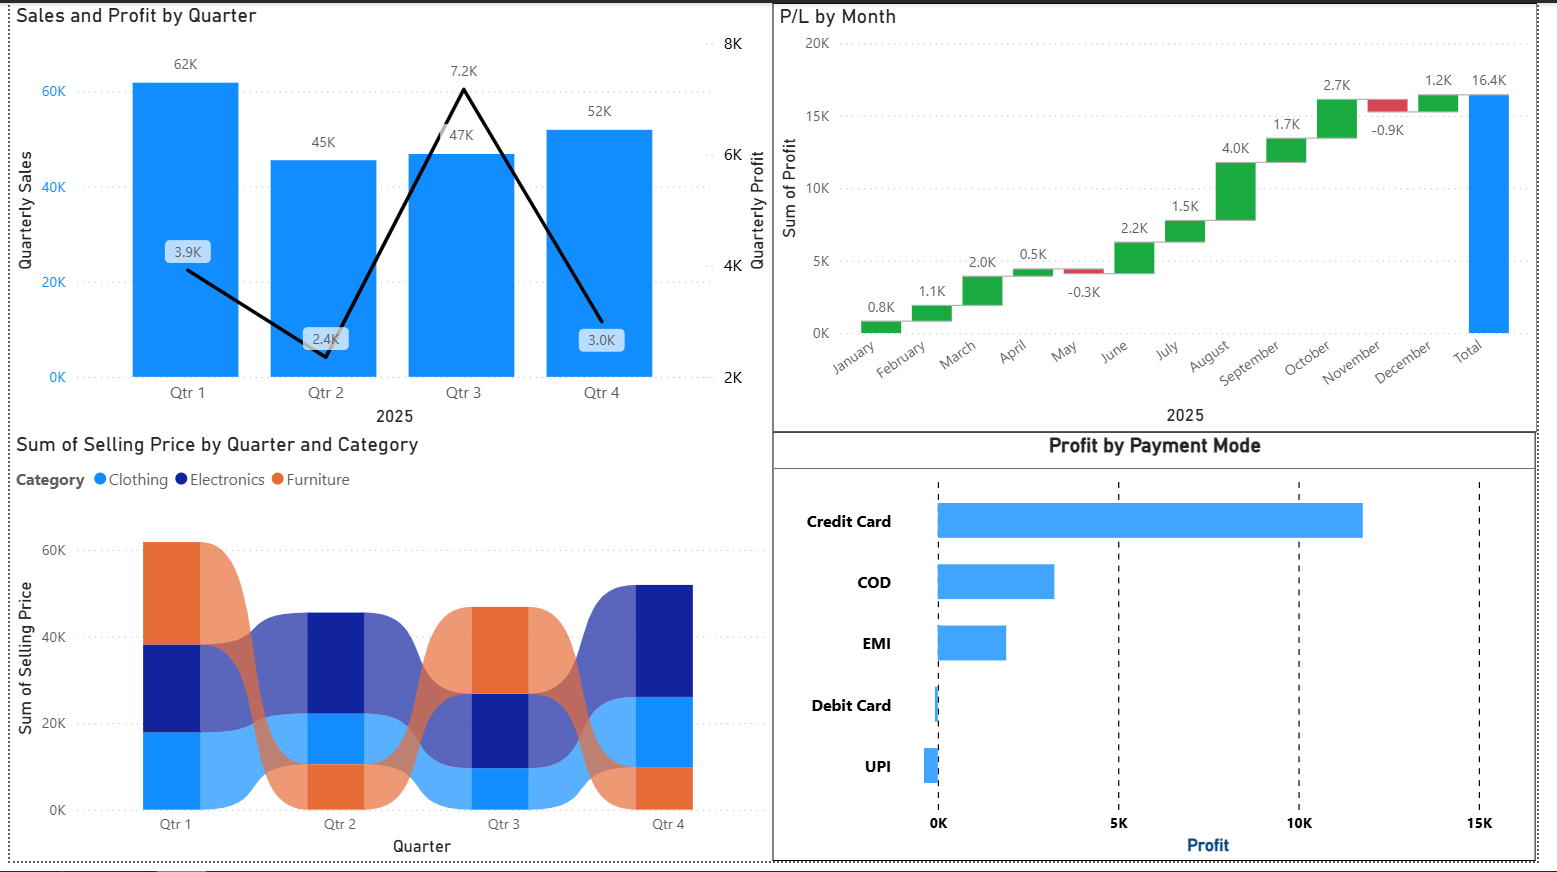

This screenshot's page, from the dashboard's own definition file:
{"tool":"powerbi","page":{"name":"Page 1","canvas":[1280,720],"ordinal":0},"visuals":[{"type":"lineClusteredColumnComboChart","title":"Sales and Profit by Quarter","fields":{"Category":["Sheet1.Order Date.Variation.Date Hierarchy.Quarter"],"Y":["Sum(Sheet1.Selling Price)"],"Y2":["Sum(Sheet1.Profit)"]},"box":[0,0,639.8,359.5],"z":0},{"type":"waterfallChart","title":"P/L  by Month","fields":{"Y":["Sum(Sheet1.Profit)"],"Category":["Sheet1.Order Date.Variation.Date Hierarchy.Month"]},"box":[640,0,641.4,360],"z":1000},{"type":"ribbonChart","fields":{"Category":["Sheet1.Order Date.Variation.Date Hierarchy.Quarter"],"Y":["Sum(Sheet1.Selling Price)"],"Series":["Sheet1.Category"]},"box":[0,359.5,639.8,360.7],"z":2000},{"type":"clusteredBarChart","title":"Profit by Payment Mode","fields":{"Category":["Sheet1.Payment Mode"],"Y":["Sum(Sheet1.Profit)"]},"box":[640,360,640,360],"z":3000}]}

Visuals, with their boxes in screenshot pixels (x1, y1, x2, y2), scaled from the page's 1280x720 canvas onto the 1557x872 screenshot:
"Sales and Profit by Quarter" lineClusteredColumnComboChart: left=0, top=0, right=778, bottom=435
"P/L  by Month" waterfallChart: left=778, top=0, right=1556, bottom=436
ribbonChart - Sheet1.Order Date.Variation.Date Hierarchy.Quarter x Sum(Sheet1.Selling Price): left=0, top=435, right=778, bottom=871
"Profit by Payment Mode" clusteredBarChart: left=778, top=436, right=1556, bottom=871
